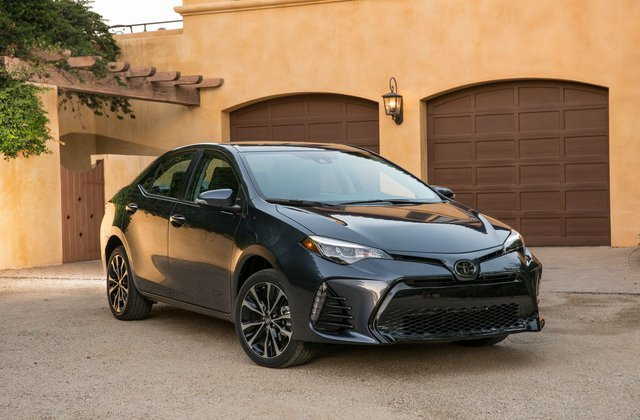car: (100, 139, 548, 367)
